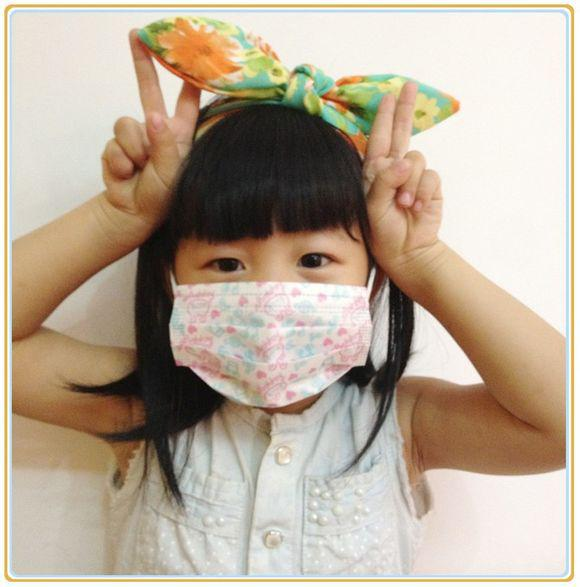OK: (169, 199, 369, 399)
